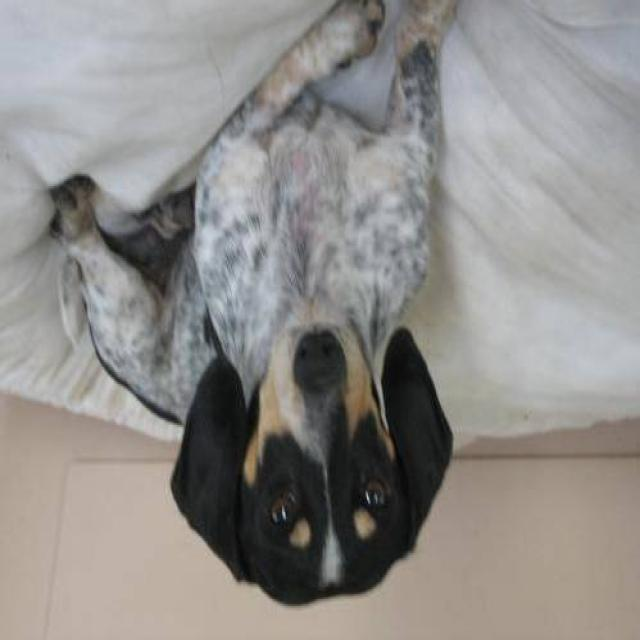dog: (45, 1, 492, 618)
